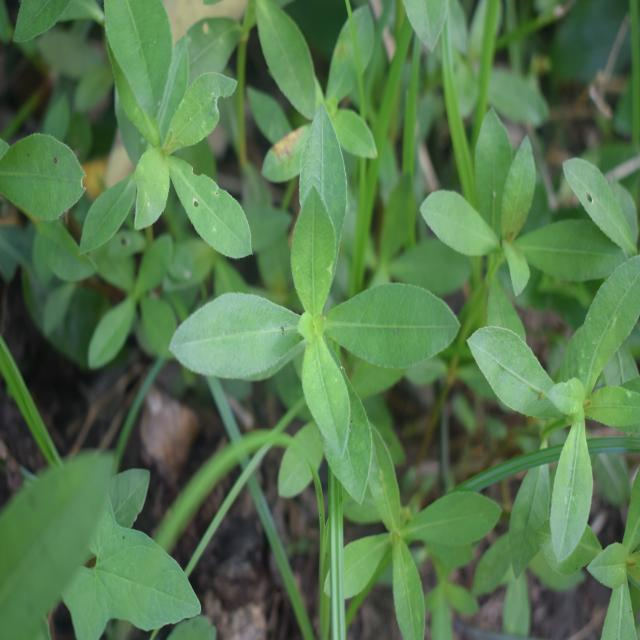Alligatorweed: (188, 138, 440, 502), (473, 193, 639, 564), (66, 0, 253, 256), (425, 110, 605, 330)
